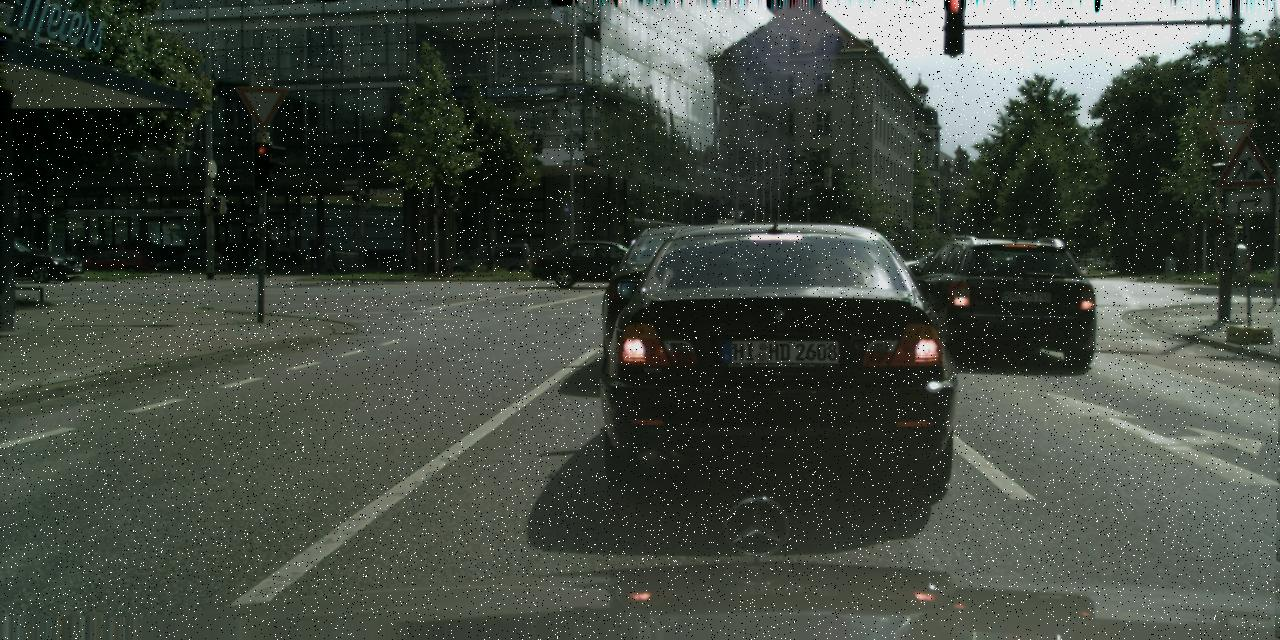ped: (244, 227, 263, 276), (258, 230, 276, 276), (305, 232, 322, 274), (322, 244, 334, 274), (326, 247, 336, 274)
